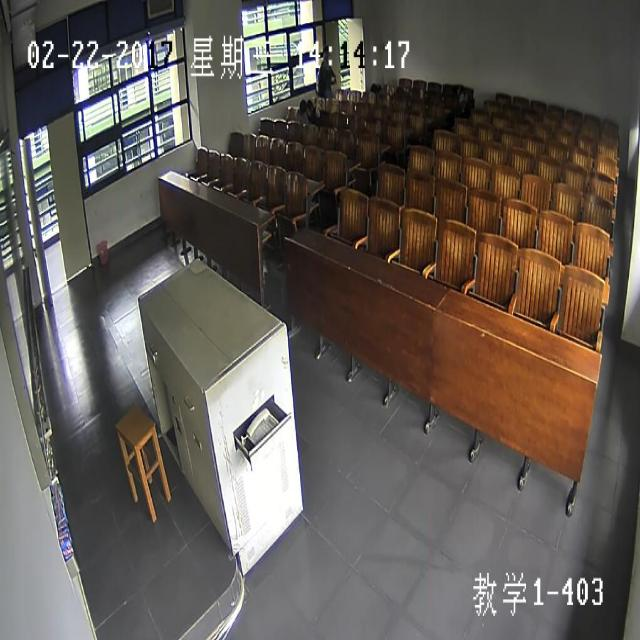person: (304, 97, 314, 115), (321, 43, 329, 61), (298, 96, 306, 114)
